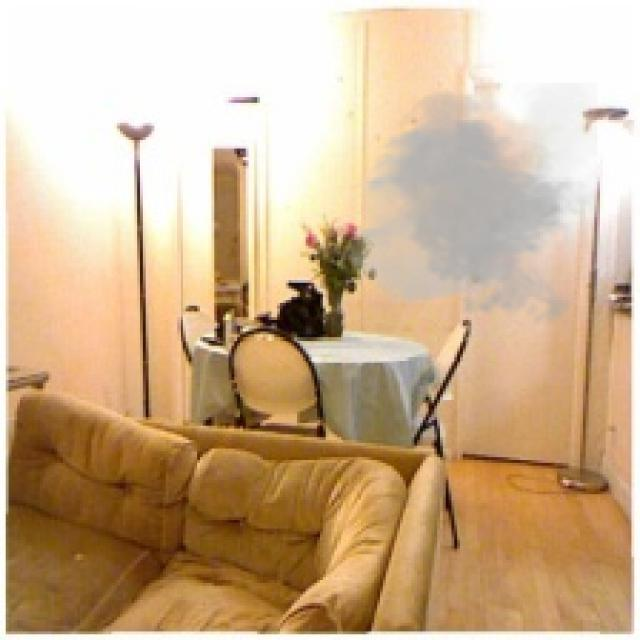smoke: (343, 83, 597, 331)
